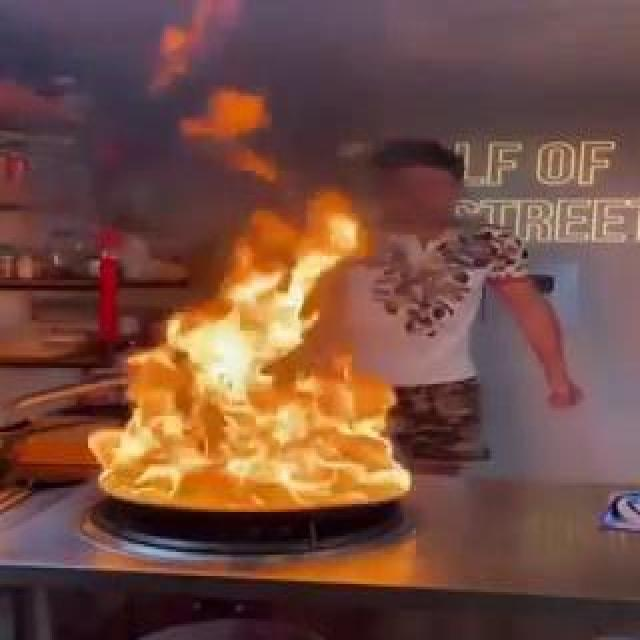Fire: (236, 330, 356, 378)
